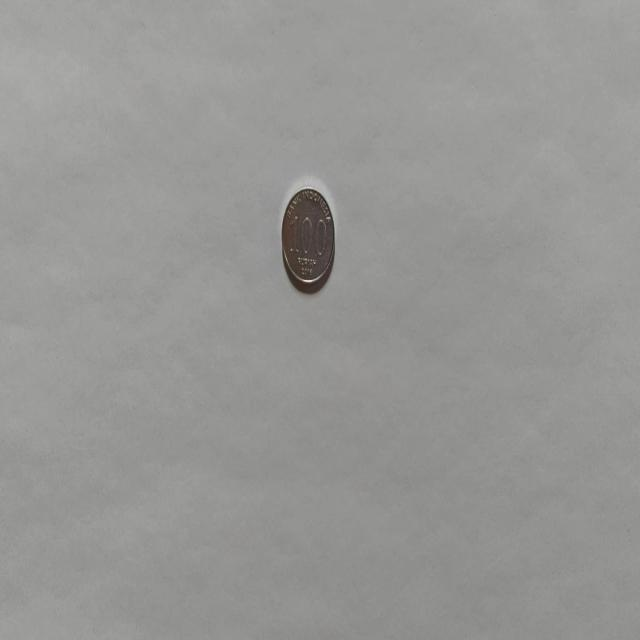seratus rupiah: (280, 185, 336, 292)
